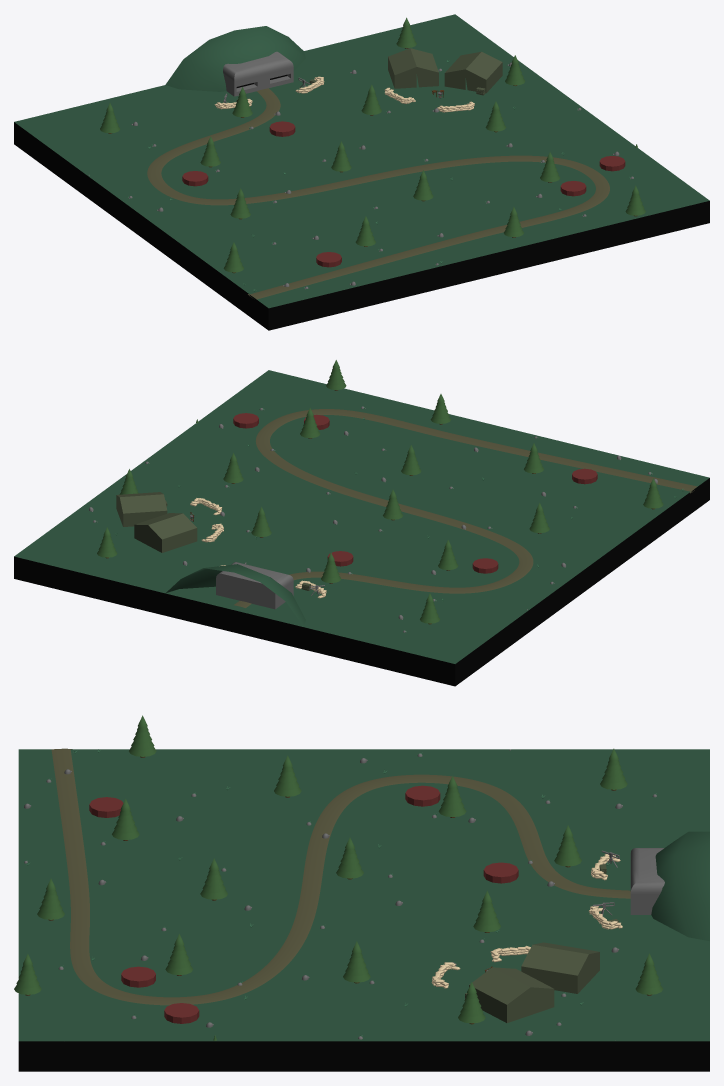
Rendered from Test_lvl.fbx.
The picture shows the model from 3 angles, top to bottom: view 1: azimuth 30°, elevation 25°; view 2: azimuth 150°, elevation 25°; view 3: azimuth 270°, elevation 25°; orthographic projection. The views are drawn at different scales.
Parts seen in each view (by area): view 1: Cube, NurbsPath, Icosphere.004, Cube.009, Cube.017, Cube.016; view 2: Cube, NurbsPath, Cube.009, Cube.016, Icosphere.004, Cube.017; view 3: Cube, NurbsPath, Icosphere.004, Cube.017, Cube.016, Cube.009, Cube|Cone|Dupli|2, Cube|Cone|Dupli|12, Cube|Cone|Dupli|, Cube|Cone|Dupli|3, Cube|Cone|Dupli|5, Cube|Cone|Dupli|10 (+14 smaller).
Boxes of the visible parts, x1,y1,x2,y2 form: Cube: (14, 14, 709, 330); NurbsPath: (147, 88, 609, 299); Icosphere.004: (165, 26, 305, 91); Cube.009: (223, 51, 293, 96); Cube.017: (444, 51, 502, 93); Cube.016: (388, 48, 438, 88); Cube: (14, 370, 709, 686); NurbsPath: (234, 409, 697, 607); Cube.009: (216, 562, 293, 609); Cube.016: (134, 513, 197, 552); Icosphere.004: (166, 564, 305, 626); Cube.017: (116, 492, 167, 526); Cube: (18, 749, 709, 1071); NurbsPath: (51, 748, 630, 1005); Icosphere.004: (651, 831, 709, 941); Cube.017: (469, 967, 554, 1022); Cube.016: (521, 942, 599, 993); Cube.009: (630, 848, 664, 914); Cube|Cone|Dupli|2: (129, 715, 156, 757); Cube|Cone|Dupli|12: (274, 755, 301, 797); Cube|Cone|Dupli|: (635, 953, 662, 995); Cube|Cone|Dupli|3: (458, 982, 485, 1024); Cube|Cone|Dupli|5: (200, 858, 227, 900); Cube|Cone|Dupli|10: (600, 748, 627, 790).
Size of what is drawn, in the model's own units: 200 by 26.01 by 201.
